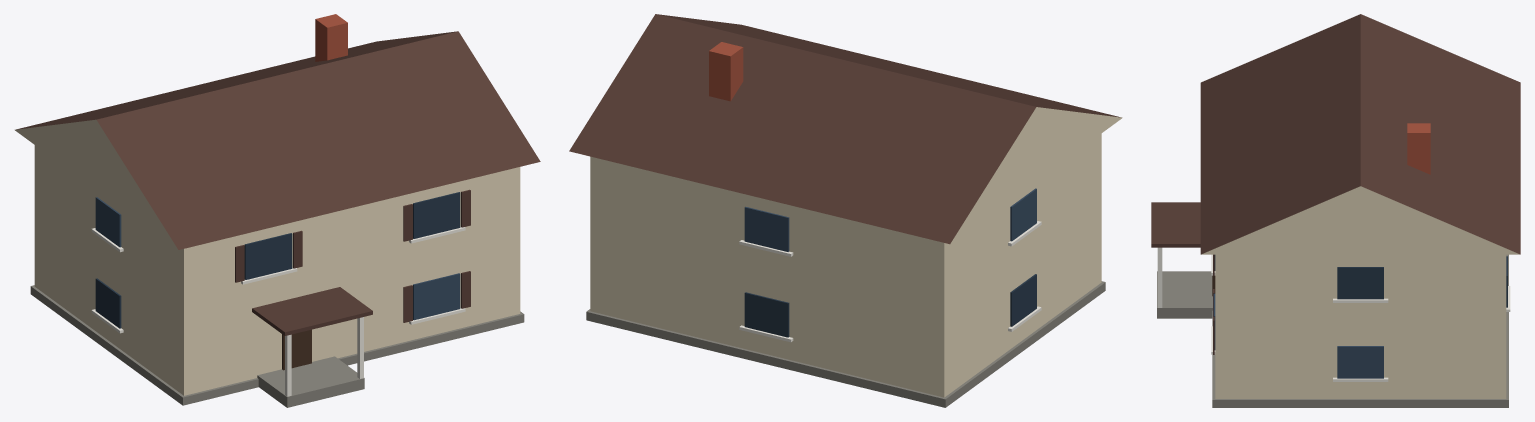
Rendered from house_f.glb.
3 renders of one model, left to right at view 1: azimuth 30°, elevation 25°; view 2: azimuth 150°, elevation 25°; view 3: azimuth 270°, elevation 25°, orthographic. The views are drawn at different scales.
Parts seen in each view (by area): view 1: house_f; view 2: house_f; view 3: house_f.
Boxes of the visible parts, box(x1,y1,x2,y2) form: house_f: box(15, 14, 540, 407); house_f: box(569, 14, 1122, 407); house_f: box(1151, 14, 1520, 407).
Size of what is drawn, in the model's own units: 14 by 9.05 by 12.7.
